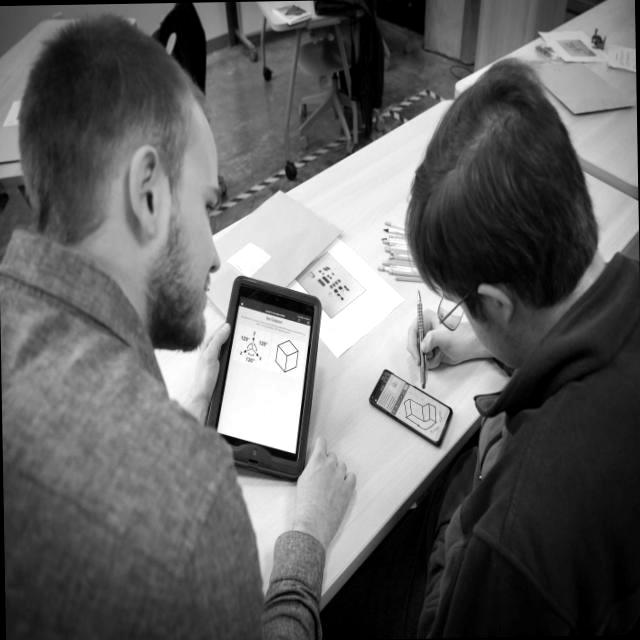phone: (202, 273, 325, 483), (368, 367, 453, 448)
